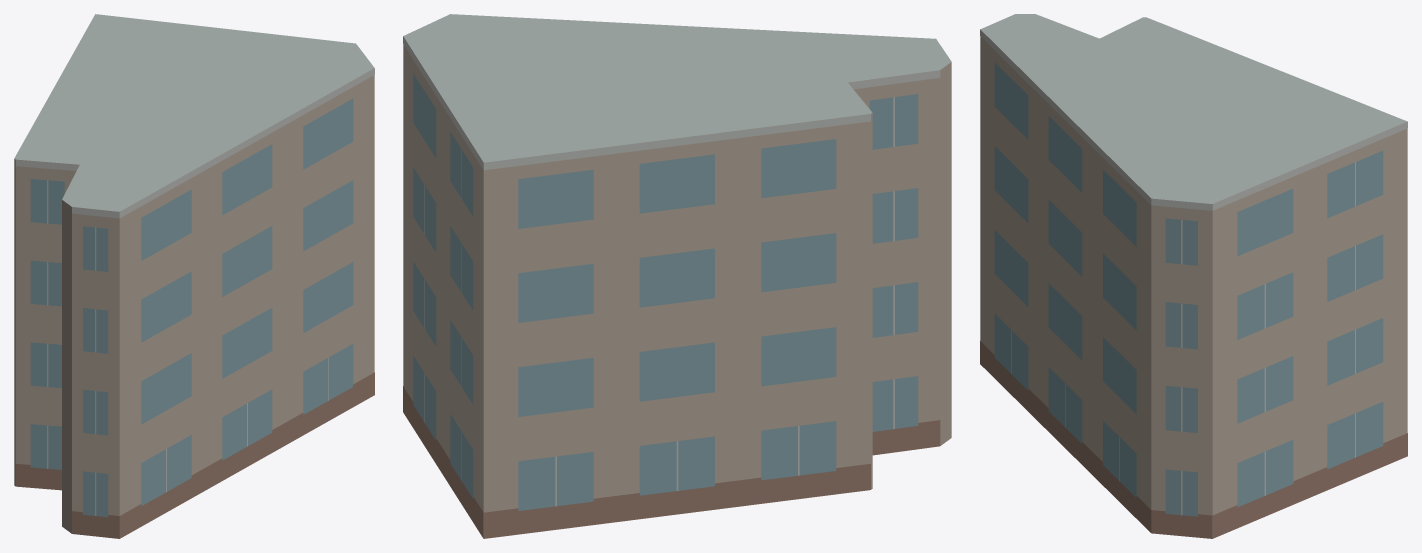
File: survey-upis-32872031.glb
The picture shows the model from 3 angles, left to right: view 1: azimuth 30°, elevation 25°; view 2: azimuth 150°, elevation 25°; view 3: azimuth 270°, elevation 25°; orthographic projection. The views are drawn at different scales.
Parts seen in each view (by area): view 1: survey-upis-32872031.tmp; view 2: survey-upis-32872031.tmp; view 3: survey-upis-32872031.tmp.
Boxes of the visible parts, left/top/right/bottom form: survey-upis-32872031.tmp: left=14, top=14, right=374, bottom=538; survey-upis-32872031.tmp: left=403, top=14, right=951, bottom=538; survey-upis-32872031.tmp: left=980, top=14, right=1407, bottom=538.
Size of the model in its own units: 14.68 by 12.05 by 13.96.
